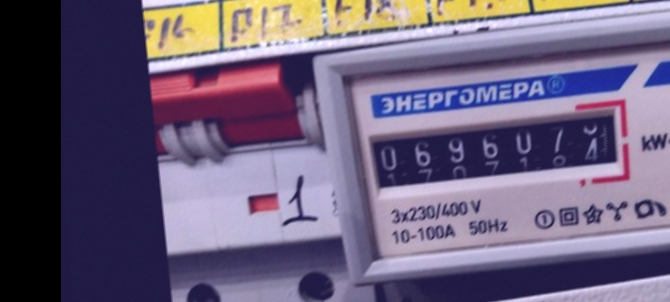0: (511, 123, 532, 155), (377, 141, 397, 170)
4: (579, 132, 599, 162)
6: (478, 128, 498, 158), (411, 136, 430, 166)
7: (545, 121, 567, 154)
9: (444, 133, 464, 163)
screen: (353, 93, 637, 204)
